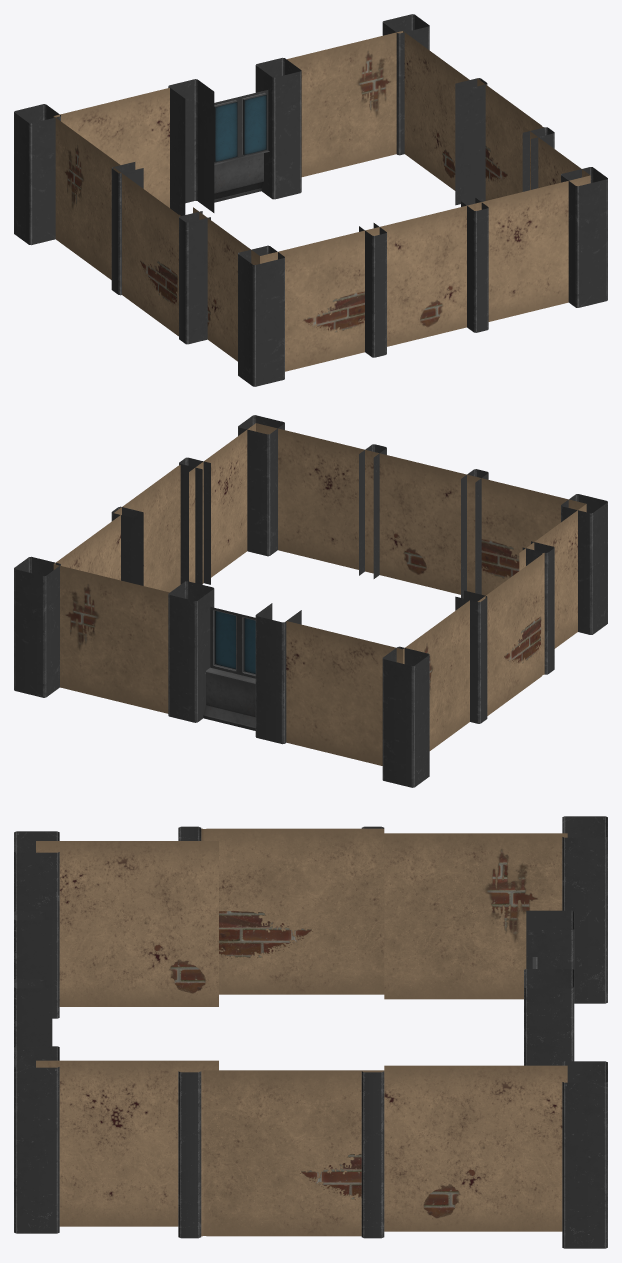
File: TrimSheetC1_Lower.fbx
The picture shows the model from 3 angles, top to bottom: view 1: azimuth 30°, elevation 25°; view 2: azimuth 150°, elevation 25°; view 3: azimuth 270°, elevation 25°; orthographic projection. The views are drawn at different scales.
Visible parts, largest first — view 1: TrimSheetC1_Lower; view 2: TrimSheetC1_Lower; view 3: TrimSheetC1_Lower.
Boxes of the visible parts, x1=… form: TrimSheetC1_Lower: x1=14, y1=14, x2=607, y2=386; TrimSheetC1_Lower: x1=14, y1=415, x2=607, y2=787; TrimSheetC1_Lower: x1=14, y1=816, x2=607, y2=1248.
Bounding box in the file's own units: 1377 × 400 × 1297.
Materials: 1 (1 with a texture image).
